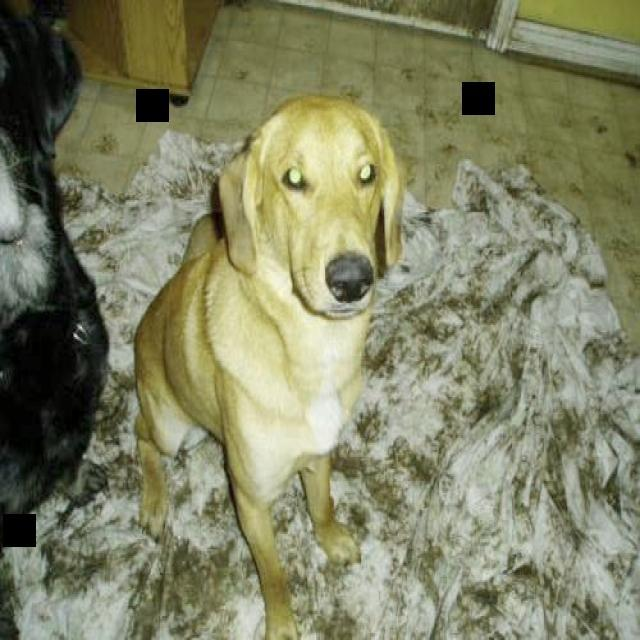adult_dog: (130, 89, 407, 640), (0, 7, 115, 640)
